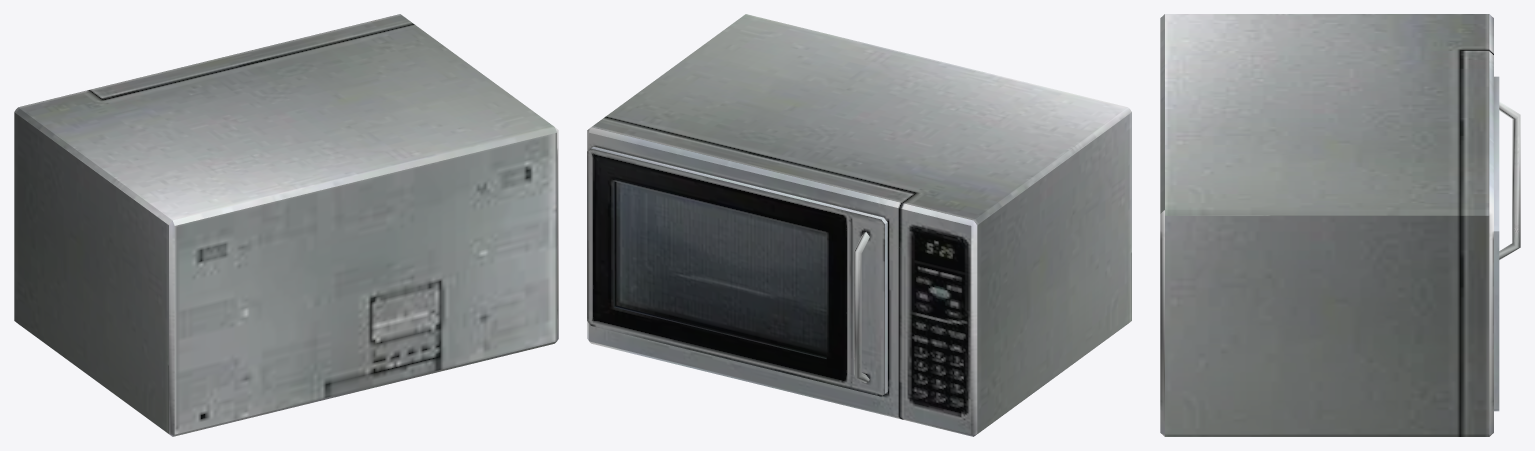
The model's file is microwave.glb.
The picture shows the model from 3 angles, left to right: view 1: azimuth 30°, elevation 25°; view 2: azimuth 150°, elevation 25°; view 3: azimuth 270°, elevation 25°; orthographic projection. The views are drawn at different scales.
Visible parts, largest first — view 1: 0_microwave; view 2: 0_microwave; view 3: 0_microwave.
Part boxes in pixels (x1,y1,x2,y2): 0_microwave: (14, 14, 558, 436); 0_microwave: (587, 14, 1131, 436); 0_microwave: (1160, 14, 1520, 436).
Bounding box in the file's own units: 0.7894 × 0.419 × 0.6019.
1 material, 1 textured.
